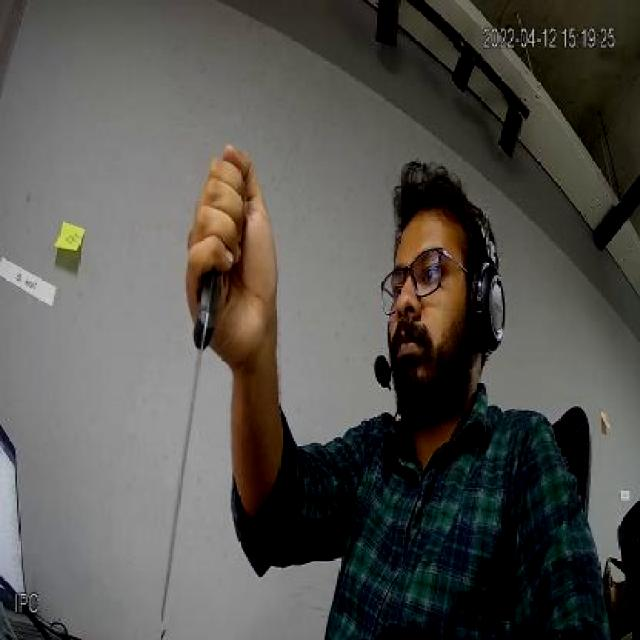knife: (157, 283, 218, 628)
